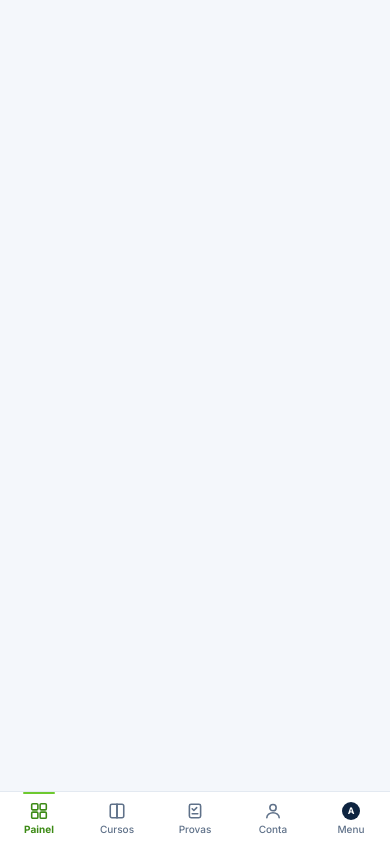
Test: gaveta do menu › fecha no Esc
The image size is (390, 844).
Click the text "Menu" at (351, 829), box [338, 824, 364, 834]
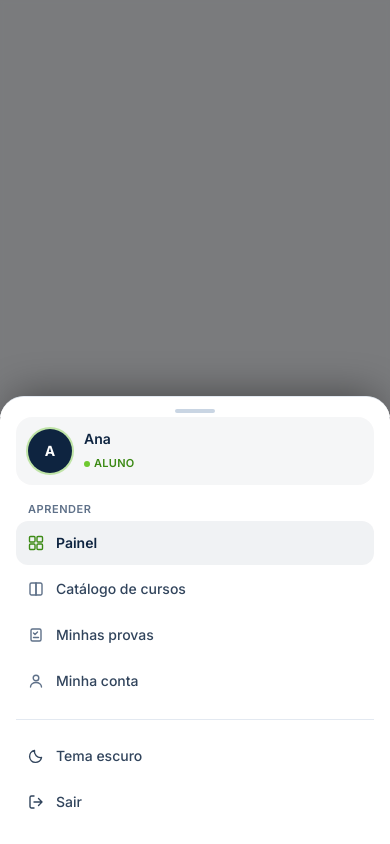
Check: the dialog is shown
Press Escape
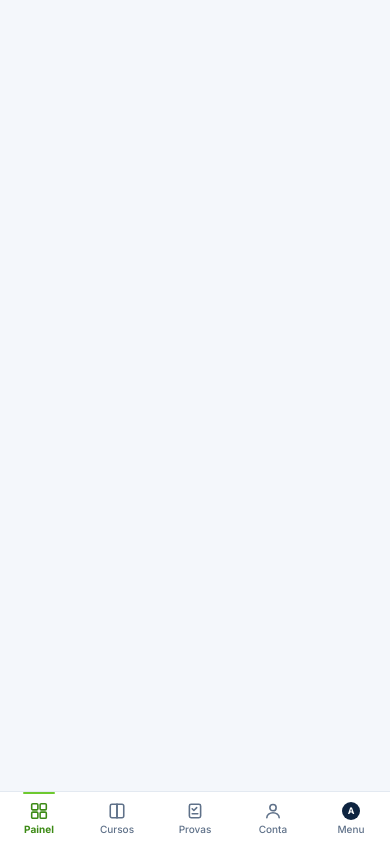
Check: the dialog is gone
